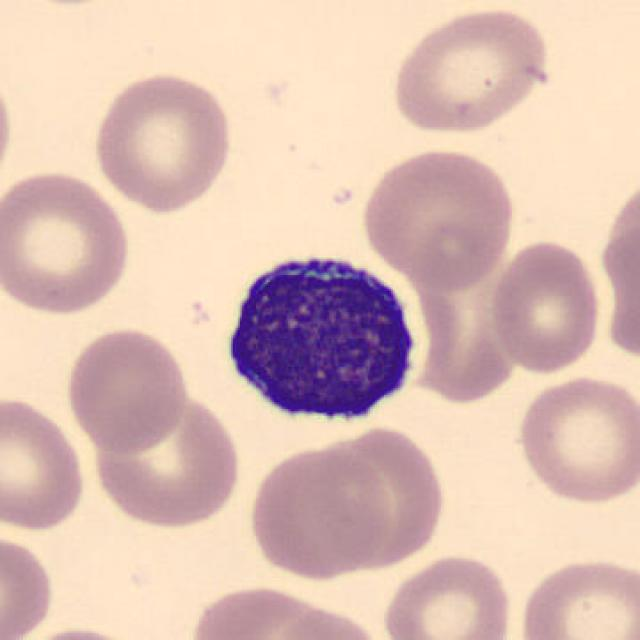Lymphocyte: (213, 237, 427, 436)
RBC: (357, 143, 519, 291), (87, 388, 245, 532), (386, 3, 554, 138), (413, 220, 532, 404), (89, 69, 236, 215), (246, 441, 396, 580), (0, 166, 135, 317), (308, 429, 442, 566), (512, 372, 638, 508), (62, 324, 192, 455), (486, 236, 604, 378), (0, 392, 89, 534), (380, 550, 516, 640), (516, 552, 638, 640), (187, 580, 350, 640), (595, 172, 640, 370), (0, 529, 57, 640), (263, 604, 389, 640), (9, 622, 162, 640), (0, 62, 16, 199)
